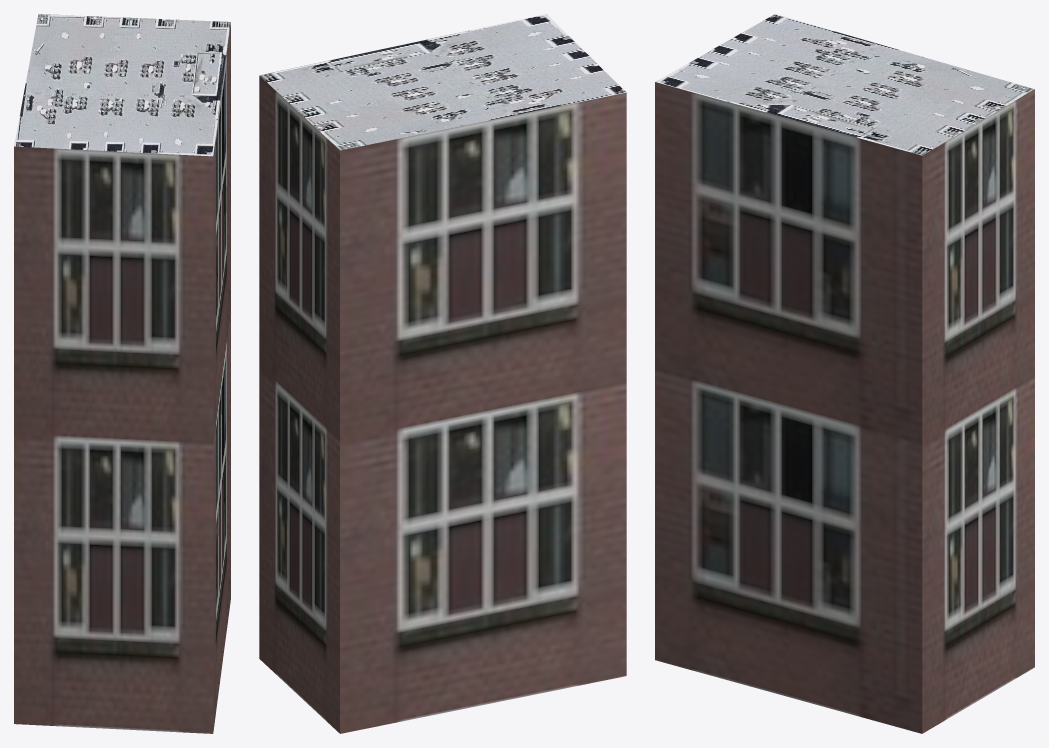
File: ResTex__2448.fbx
3 renders of one model, left to right at view 1: azimuth 30°, elevation 25°; view 2: azimuth 150°, elevation 25°; view 3: azimuth 270°, elevation 25°, orthographic.
Visible parts, largest first — view 1: CityEngineMaterial_12_m, CityEngineMaterial_m; view 2: CityEngineMaterial_12_m, CityEngineMaterial_m; view 3: CityEngineMaterial_12_m, CityEngineMaterial_m.
Boxes of the visible parts, x1,y1,x2,y2 form: CityEngineMaterial_12_m: (14,22,230,733); CityEngineMaterial_m: (14,14,230,156); CityEngineMaterial_12_m: (259,76,626,733); CityEngineMaterial_m: (259,14,626,150); CityEngineMaterial_12_m: (655,82,1034,733); CityEngineMaterial_m: (655,14,1034,155).
Bounding box in the file's own units: 3.16 × 6 × 3.57.
Materials: 2 (2 with a texture image).
